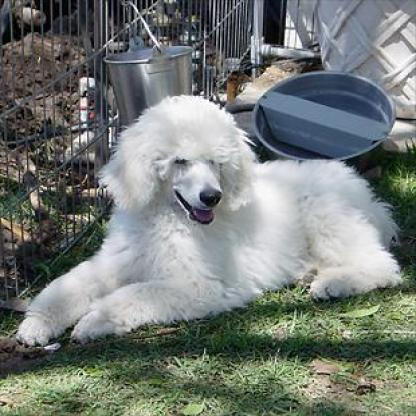standard_poodle: (8, 86, 408, 348)
